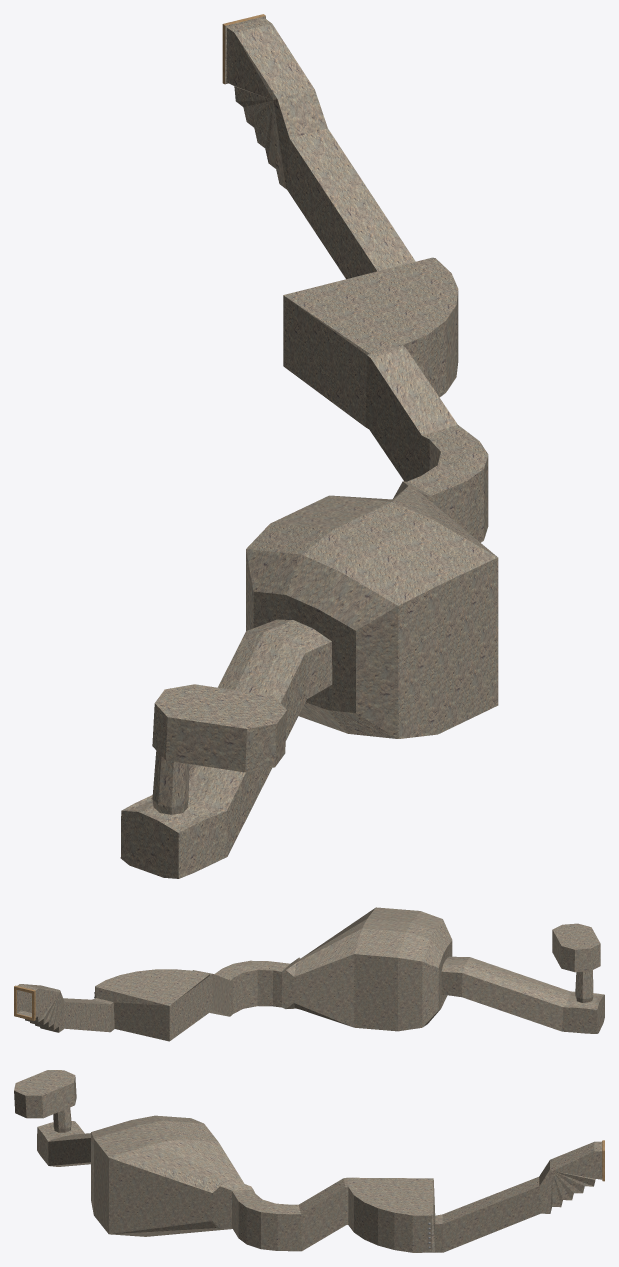
The model's file is mine.gltf.
The picture shows the model from 3 angles, top to bottom: view 1: azimuth 30°, elevation 25°; view 2: azimuth 150°, elevation 25°; view 3: azimuth 270°, elevation 25°; orthographic projection. The views are drawn at different scales.
Parts seen in each view (by area): view 1: cave; view 2: cave; view 3: cave.
Boxes of the visible parts, x1=… form: cave: x1=120, y1=14, x2=498, y2=878; cave: x1=14, y1=907, x2=604, y2=1041; cave: x1=14, y1=1070, x2=604, y2=1252.
Bounding box in the file's own units: 28.51 × 12.94 × 42.51.
